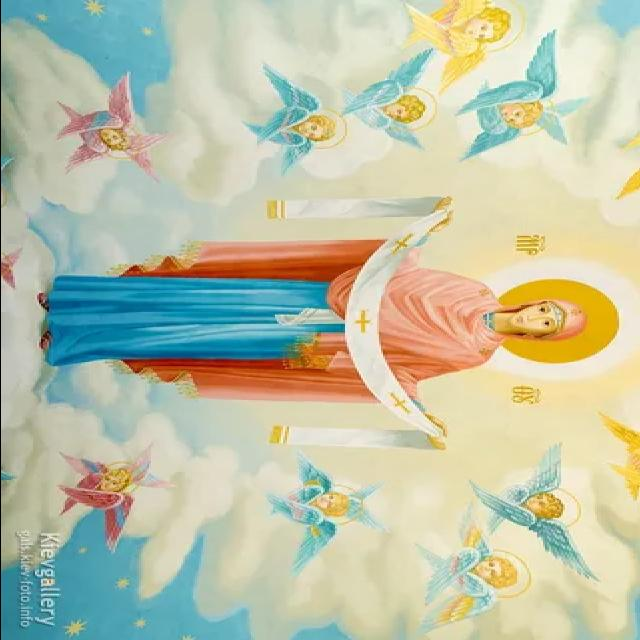mother of god: (38, 234, 594, 413)
